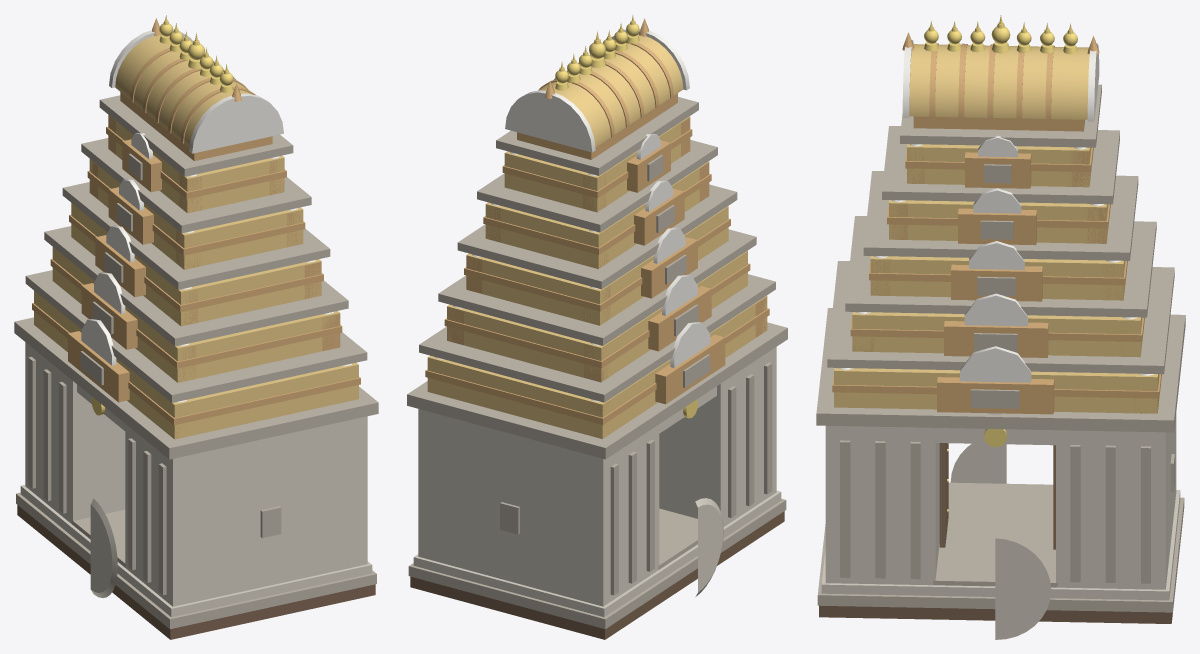
File: south_indian_dravidian_temple_gopuram.glb
3 renders of one model, left to right at view 1: azimuth 30°, elevation 25°; view 2: azimuth 150°, elevation 25°; view 3: azimuth 270°, elevation 25°, orthographic. The views are drawn at different scales.
Parts seen in each view (by area): view 1: Gateway_Pier_Left, Gopuram_Granite_Adhisthana, Gopuram_Tala_Tier_1, Gopuram_Tala_Tier_2, Gopuram_Tala_Tier_3, Gopuram_Tala_Tier_4, Gateway_Pier_Right, Gopuram_Shala_Shikhara_Crown, Gopuram_Tala_Tier_5, Gopuram_Subgrade_Foundation_Skirt; view 2: Gateway_Pier_Right, Gopuram_Granite_Adhisthana, Gopuram_Tala_Tier_1, Gopuram_Tala_Tier_2, Gopuram_Tala_Tier_3, Gateway_Pier_Left, Gopuram_Tala_Tier_4, Gopuram_Shala_Shikhara_Crown, Gopuram_Tala_Tier_5, Gopuram_Subgrade_Foundation_Skirt; view 3: Gopuram_Granite_Adhisthana, Gopuram_Tala_Tier_1, Gopuram_Tala_Tier_2, Gateway_Pier_Right, Gateway_Pier_Left, Gopuram_Tala_Tier_3, Gopuram_Shala_Shikhara_Crown, Gopuram_Tala_Tier_4, Gopuram_Tala_Tier_5, Gopuram_Subgrade_Foundation_Skirt.
Part boxes in pixels (x1,y1,x2,y2): Gateway_Pier_Left: (125, 416, 367, 606); Gopuram_Granite_Adhisthana: (14, 317, 378, 629); Gopuram_Tala_Tier_1: (25, 270, 367, 439); Gopuram_Tala_Tier_2: (44, 226, 348, 382); Gopuram_Tala_Tier_3: (62, 182, 330, 326); Gopuram_Tala_Tier_4: (81, 138, 311, 269); Gateway_Pier_Right: (25, 342, 125, 524); Gopuram_Shala_Shikhara_Crown: (109, 18, 283, 160); Gopuram_Tala_Tier_5: (99, 95, 293, 213); Gopuram_Subgrade_Foundation_Skirt: (17, 505, 375, 639); Gateway_Pier_Right: (418, 409, 659, 606); Gopuram_Granite_Adhisthana: (407, 322, 787, 629); Gopuram_Tala_Tier_1: (419, 274, 775, 438); Gopuram_Tala_Tier_2: (438, 229, 756, 382); Gopuram_Tala_Tier_3: (457, 184, 737, 325); Gateway_Pier_Left: (659, 347, 776, 526); Gopuram_Tala_Tier_4: (477, 139, 717, 268); Gopuram_Shala_Shikhara_Crown: (505, 18, 689, 159); Gopuram_Tala_Tier_5: (496, 97, 698, 212); Gopuram_Subgrade_Foundation_Skirt: (410, 511, 784, 639); Gopuram_Granite_Adhisthana: (816, 308, 1185, 639); Gopuram_Tala_Tier_1: (827, 261, 1174, 414); Gopuram_Tala_Tier_2: (845, 216, 1156, 357); Gateway_Pier_Right: (1056, 413, 1176, 589); Gateway_Pier_Left: (825, 425, 939, 585); Gopuram_Tala_Tier_3: (863, 171, 1138, 301); Gopuram_Shala_Shikhara_Crown: (902, 32, 1099, 131); Gopuram_Tala_Tier_4: (882, 126, 1119, 245); Gopuram_Tala_Tier_5: (900, 84, 1101, 188); Gopuram_Subgrade_Foundation_Skirt: (819, 521, 1182, 623).
Bounding box in the file's own units: 6.41 × 15.22 × 8.89.
